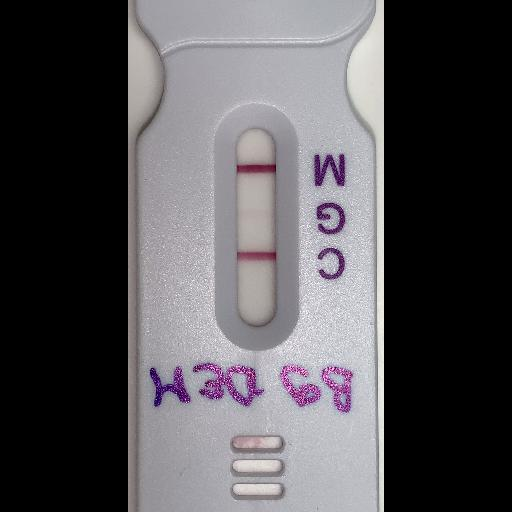Pos: (136, 2, 378, 512)
